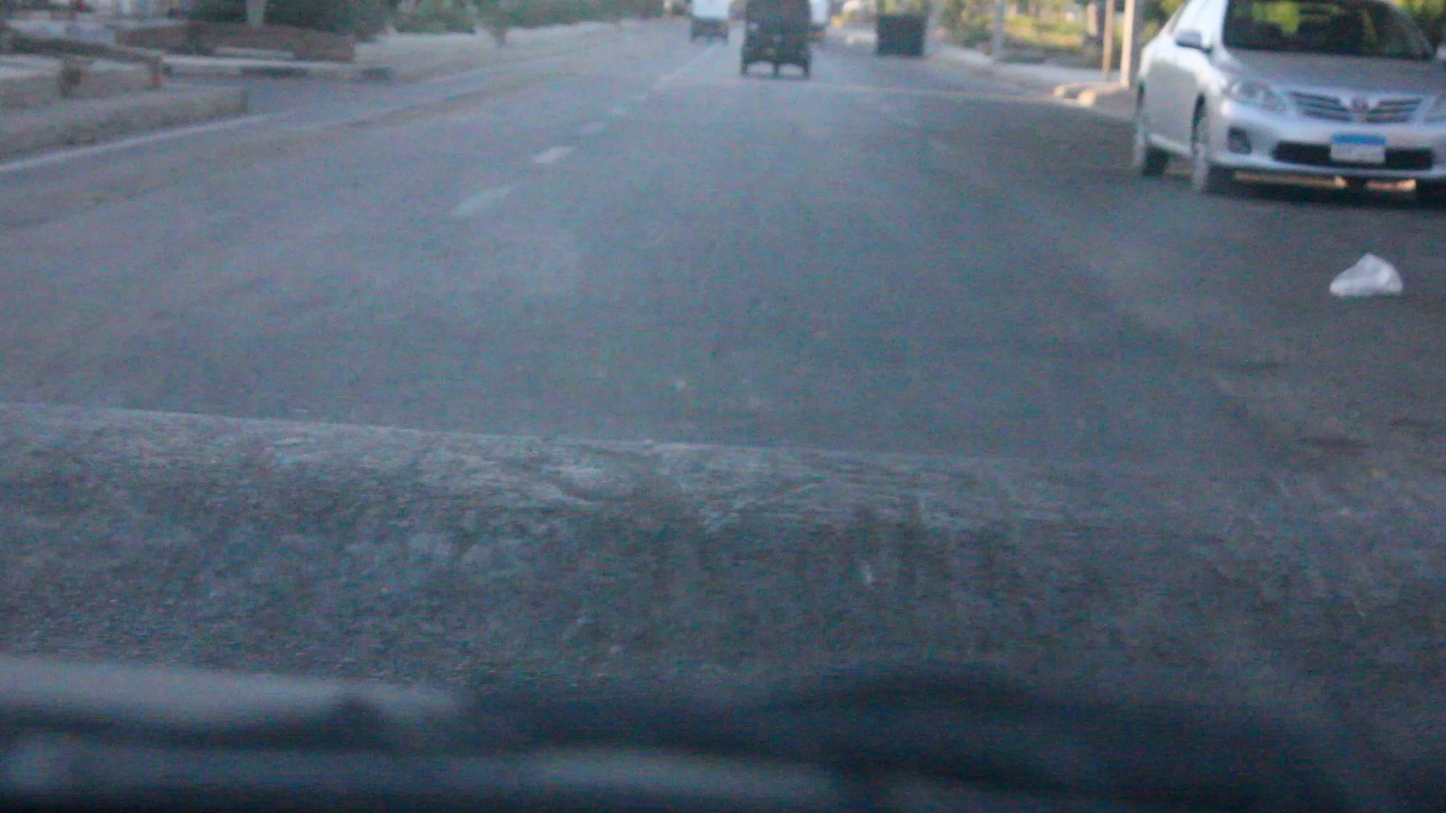Bump: (8, 405, 1446, 802)
